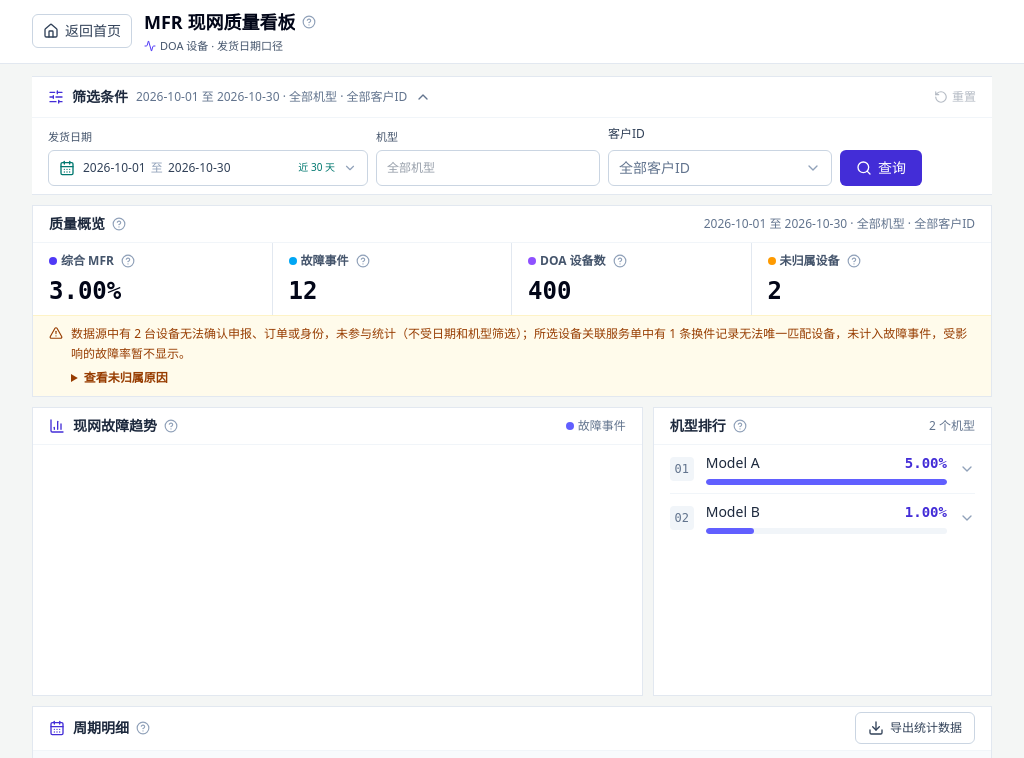
MFR dashboard › collapses and reopens filters without discarding pending selections
Type "Model A" into the field labelled "机型".
click(488, 168); type("Model A")  # box x1=376 y1=150 x2=600 y2=186
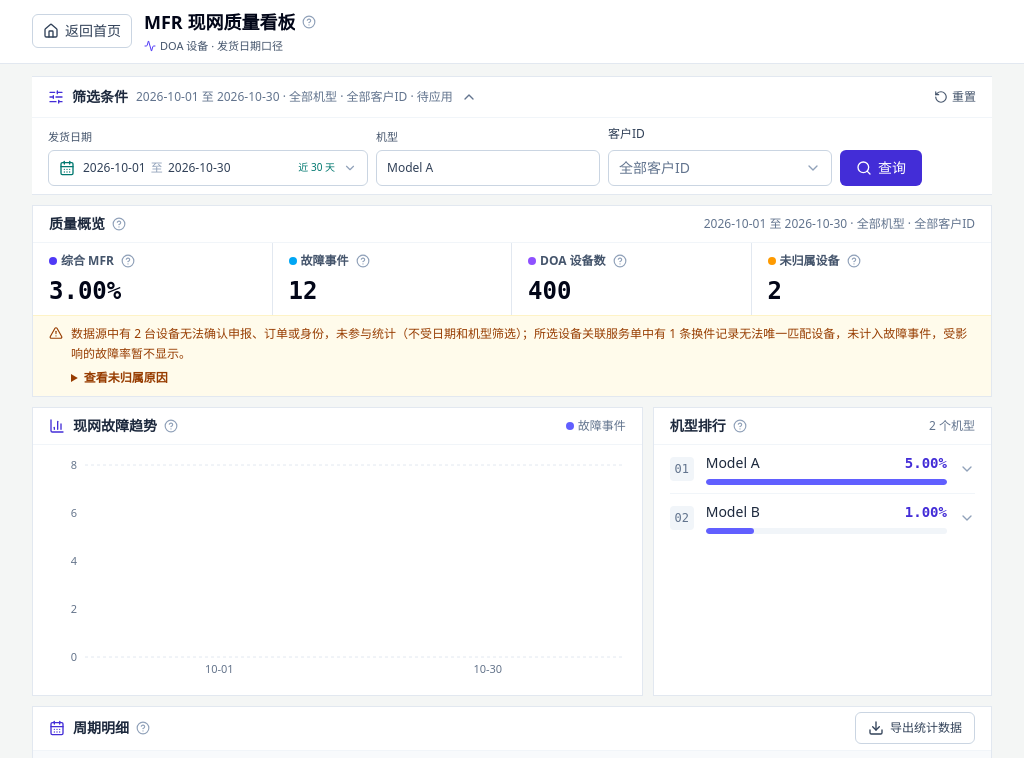
Click the button "筛选条件 2026-10-01 至 2026-10-30 · 全部机型 · 全部客户ID · 待应用".
click(100, 96)  # box x1=48 y1=86 x2=922 y2=106
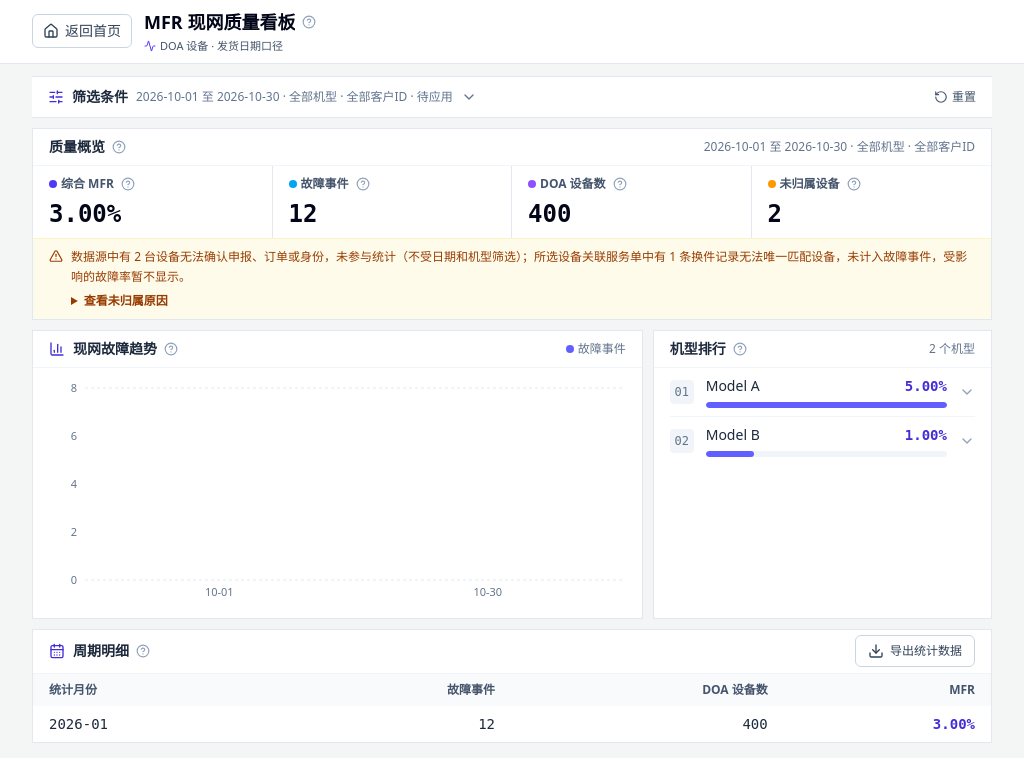
Now the button "筛选条件 2026-10-01 至 2026-10-30 · 全部机型 · 全部客户ID · 待应用" is shown
Now the button "筛选条件 2026-10-01 至 2026-10-30 · 全部机型 · 全部客户ID · 待应用" is collapsed
Click the button "筛选条件 2026-10-01 至 2026-10-30 · 全部机型 · 全部客户ID · 待应用".
click(100, 96)  # box x1=48 y1=86 x2=922 y2=106
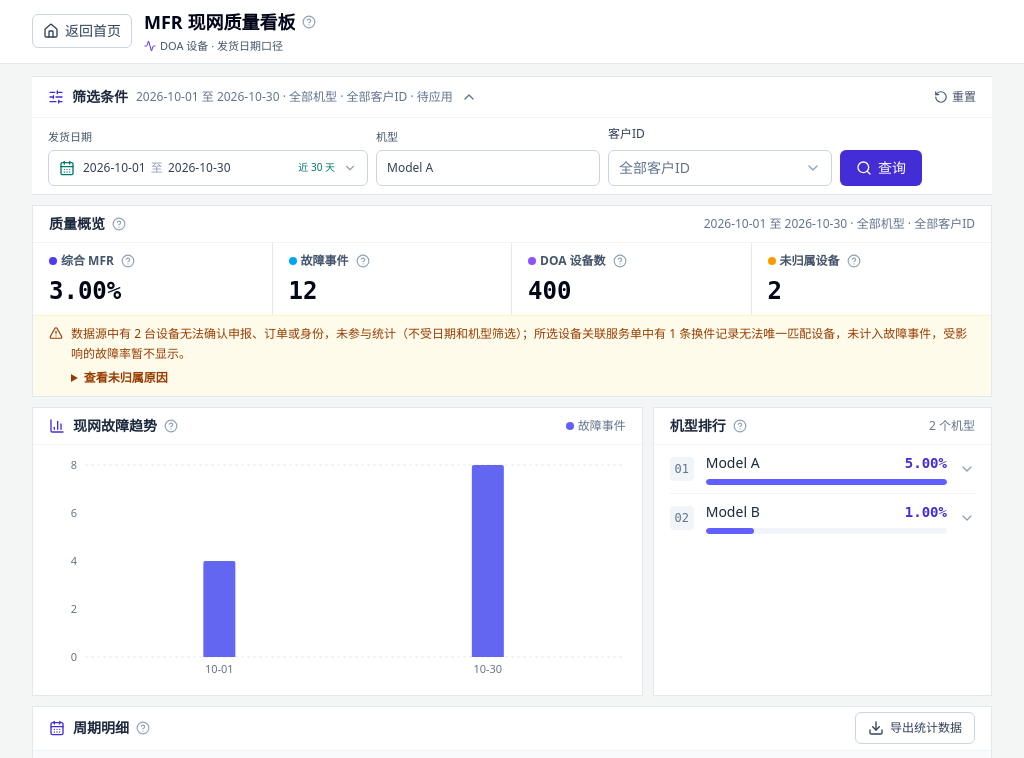
Now the field labelled "机型" holds "Model A", box x1=376 y1=150 x2=600 y2=186
